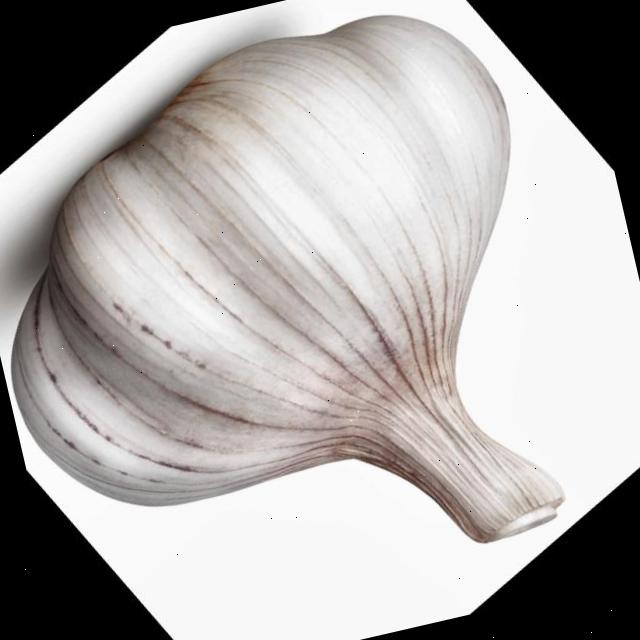garlic: (12, 15, 563, 540)
